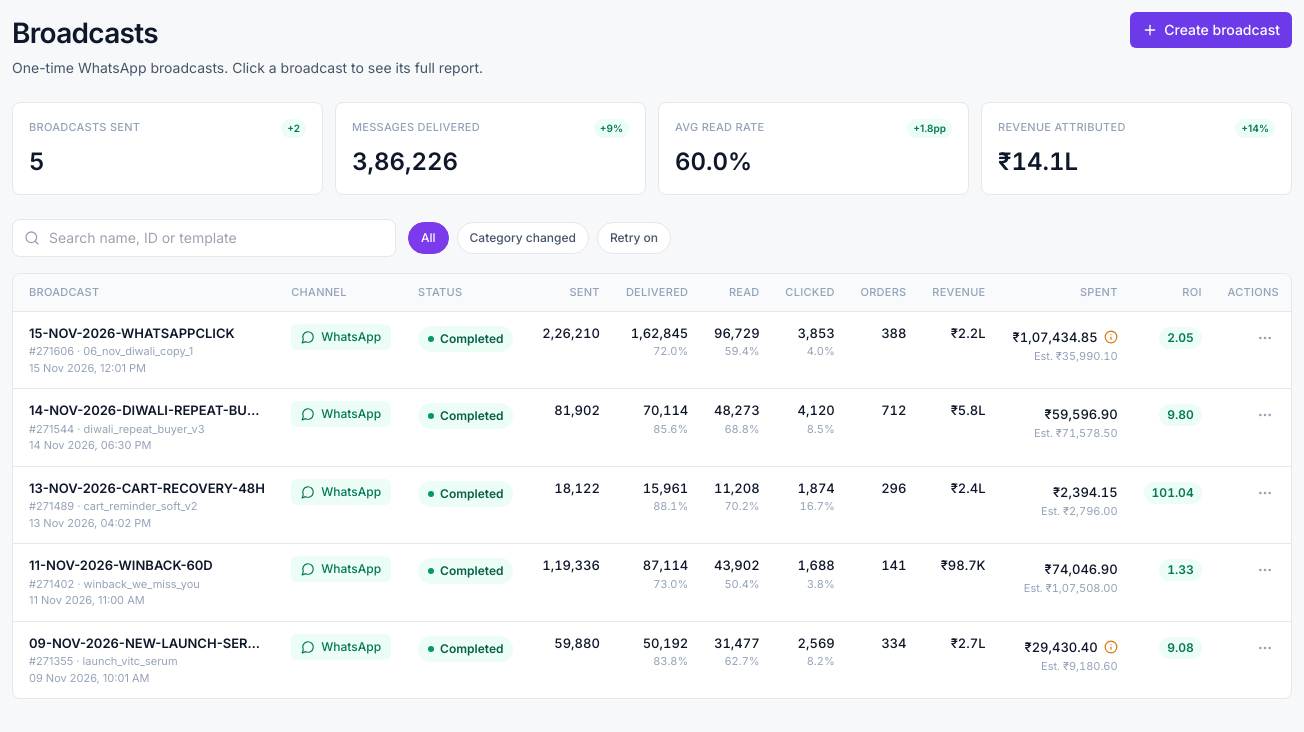
Test: BroadcastsPage › lists broadcasts in a table with the wireframe columns and filters by search and category change
Click the button with test id "broadcasts-filter-changed" at x=523, y=238, box [457, 222, 589, 254]
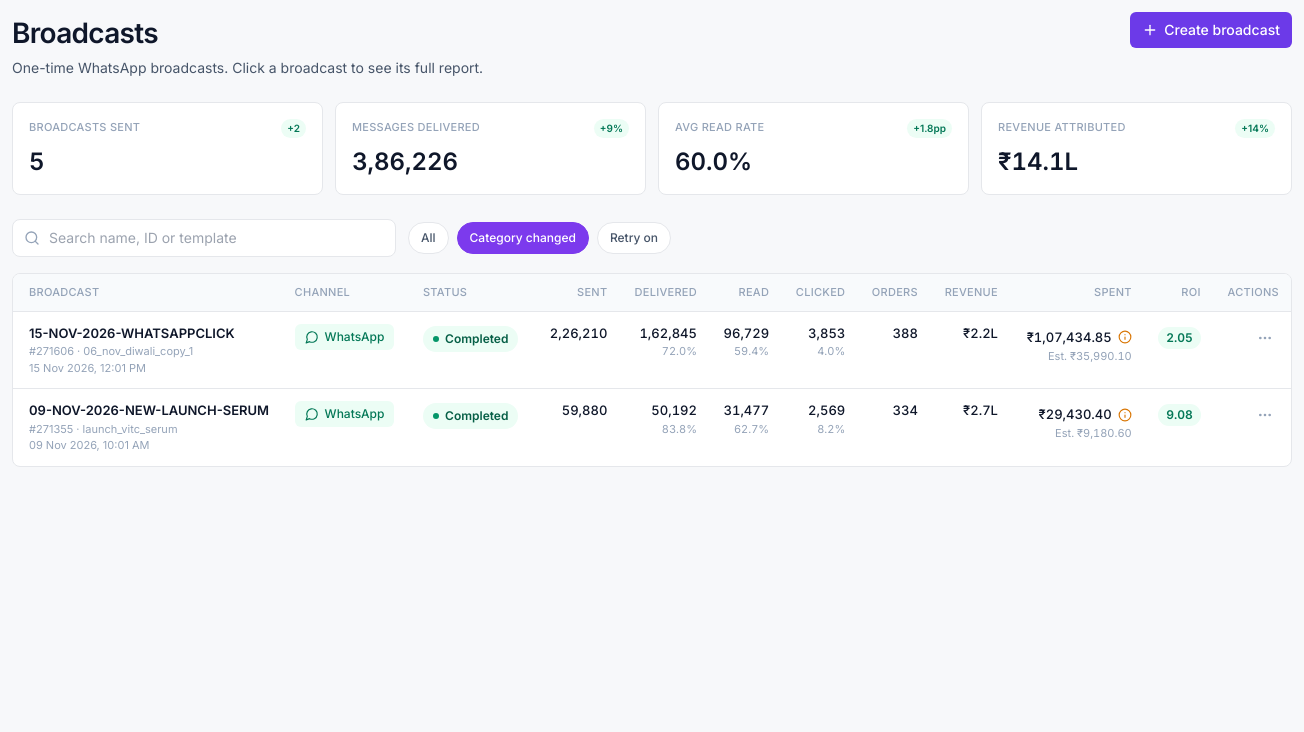
Click the button with test id "broadcasts-filter-all" at x=428, y=238, box [408, 222, 449, 254]
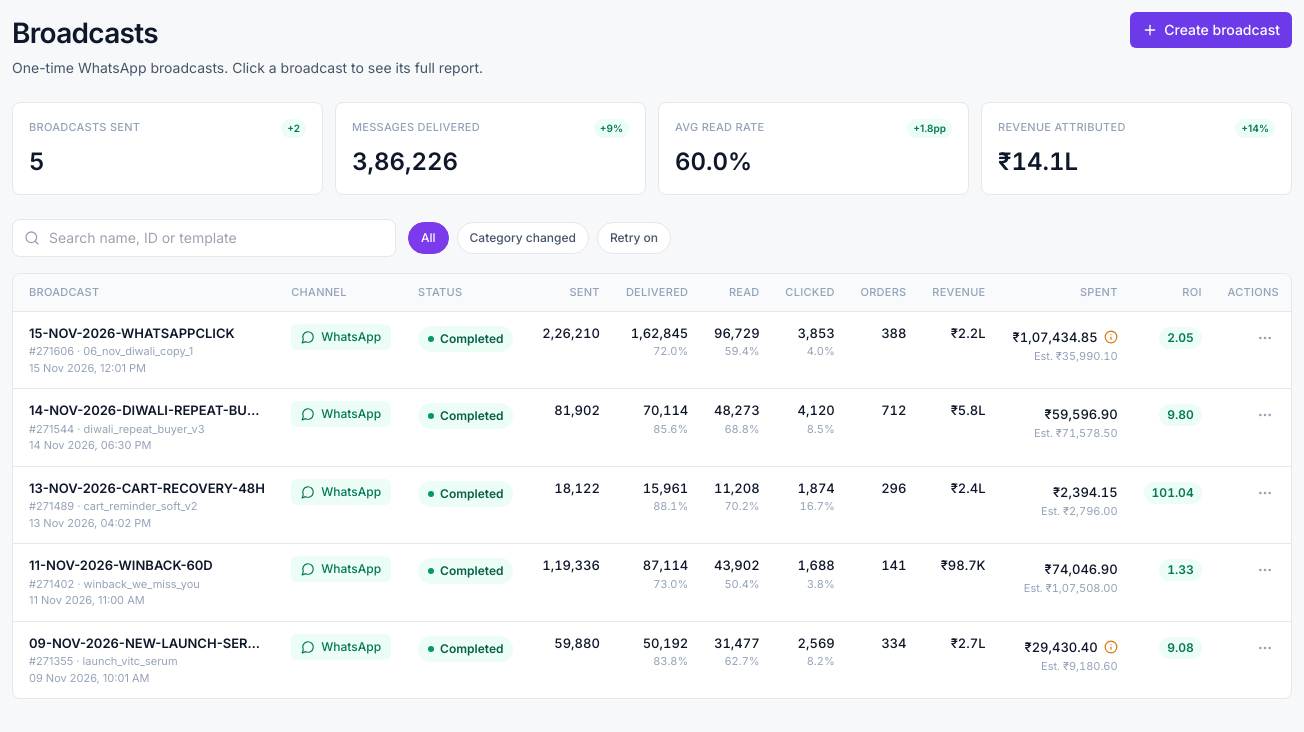
Type "cart_reminder" into the search field with test id "broadcasts-search" at x=204, y=238, box [12, 219, 396, 257]
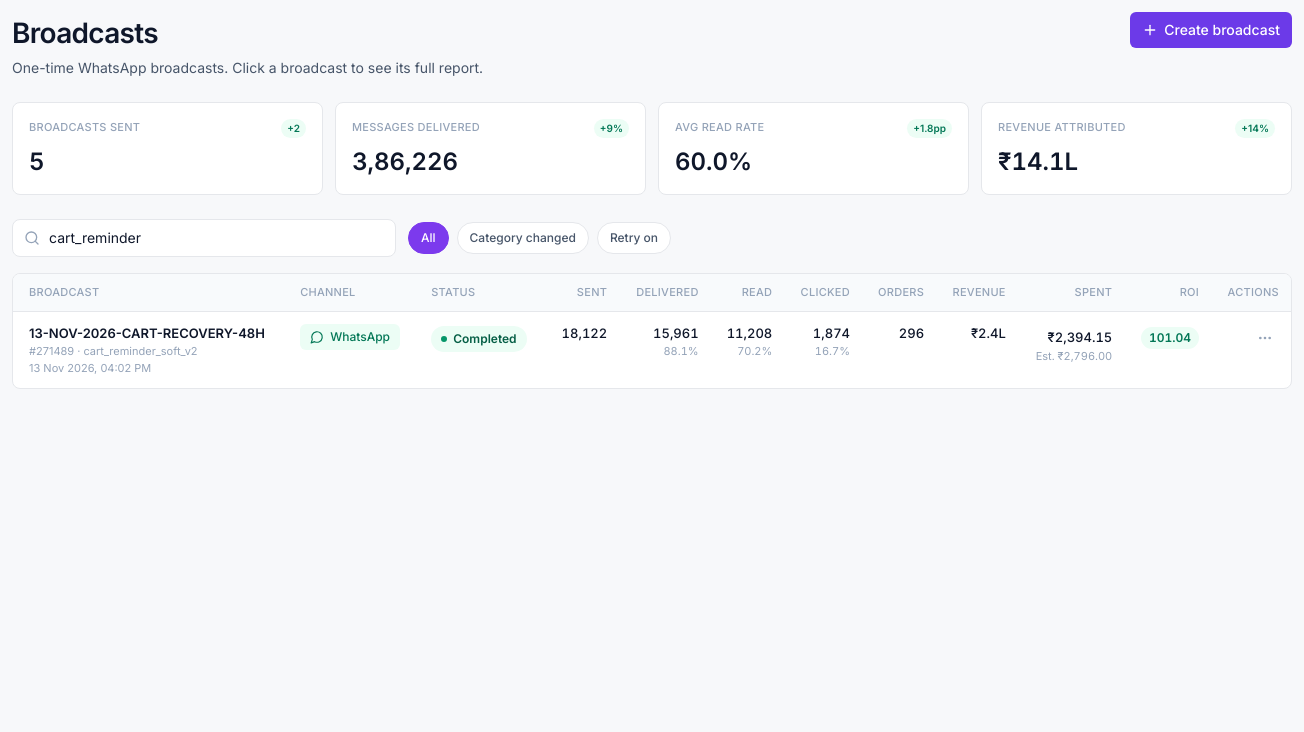
Check: the row with test id "broadcasts-row-271489" is shown, box [13, 311, 1291, 388]
Replace the text in the search field with test id "broadcasts-search" with "zzz" at x=204, y=238, box [12, 219, 396, 257]
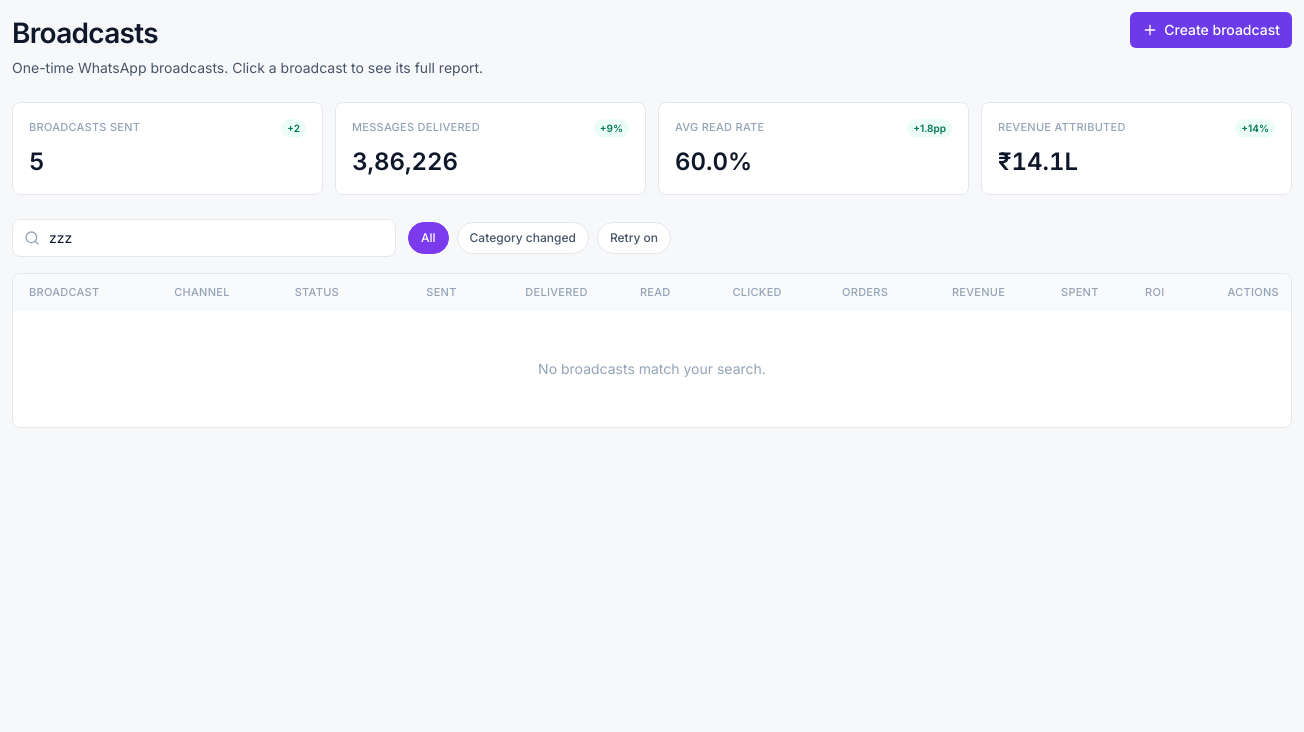
Check: the text "No broadcasts match your search." is shown, box [13, 310, 1291, 426]
